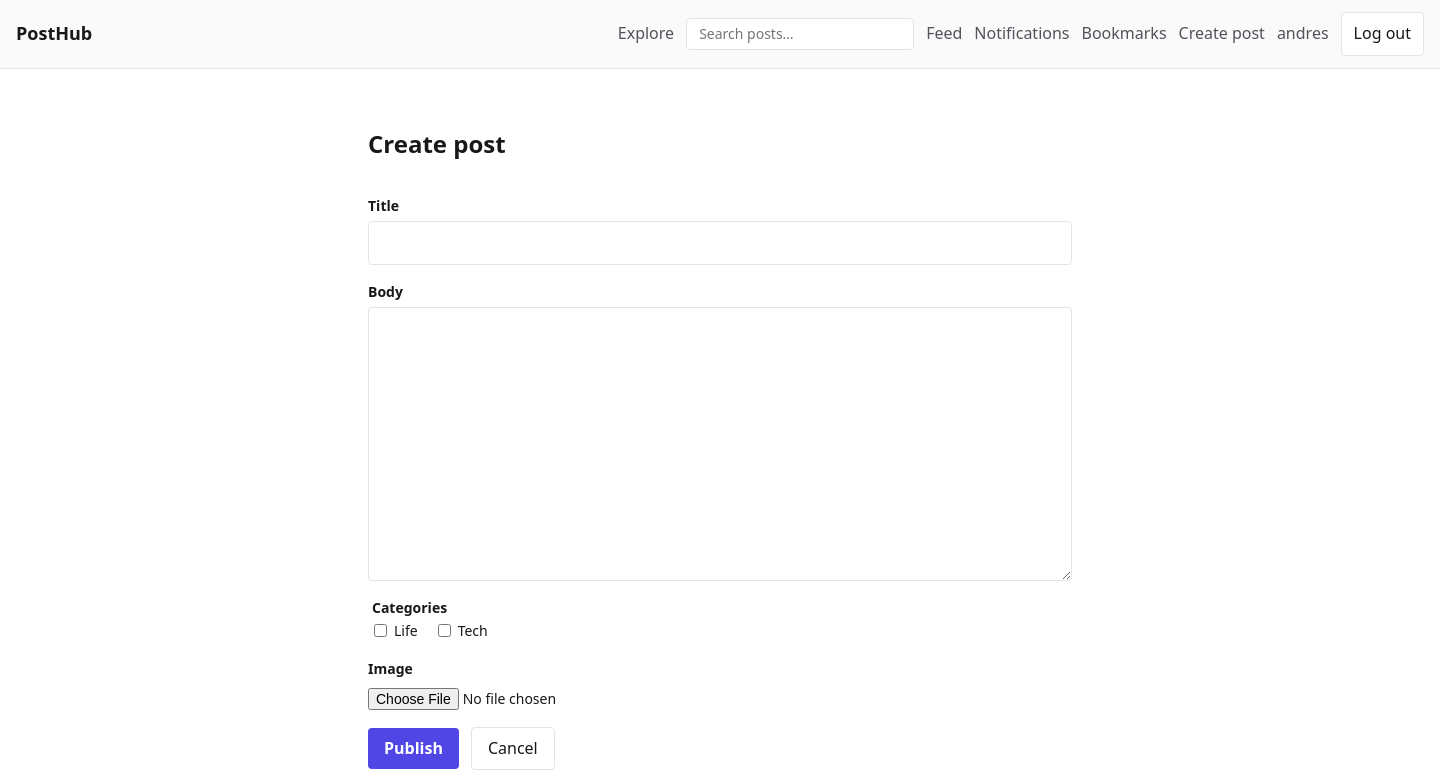
Test case: Create / edit / delete post › blocks an empty create submit client-side
What coordinates should you click on to do the following:
click the button "Publish"
I would click on:
 (413, 749)
Its box is x1=368 y1=728 x2=459 y2=770.
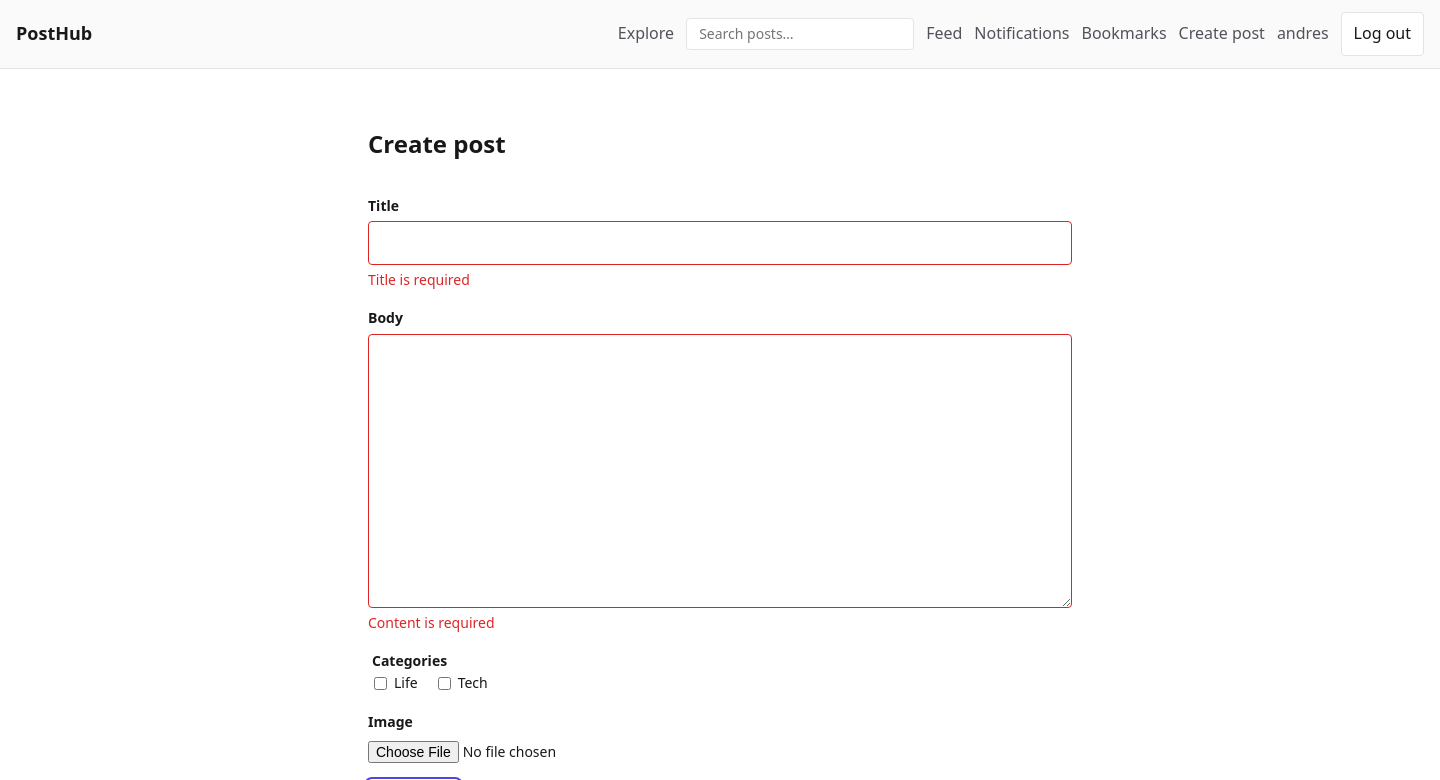
Expected: the heading "Create post" is shown, x1=368 y1=127 x2=506 y2=160
Result: the text "Title is required" is shown at x1=368 y1=270 x2=470 y2=289
Result: the text "Content is required" is shown at x1=368 y1=613 x2=494 y2=632
